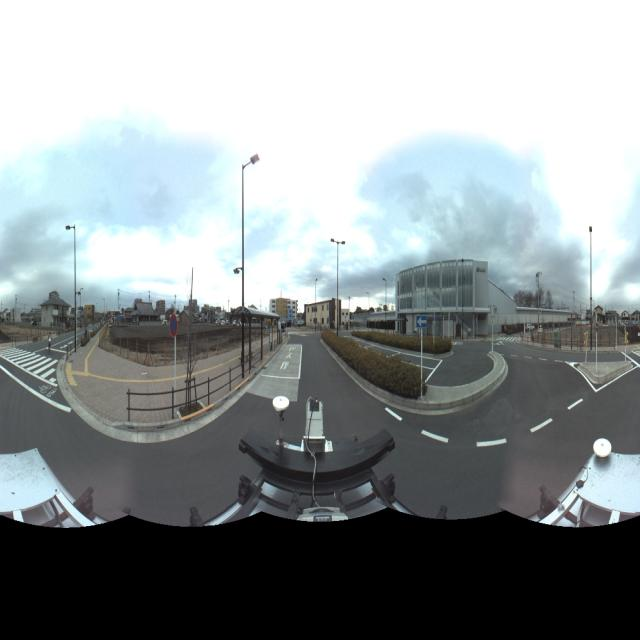b_1: (390, 262, 492, 340), (302, 294, 343, 334), (127, 292, 169, 330), (264, 288, 299, 330), (41, 294, 68, 337), (80, 304, 100, 328)
